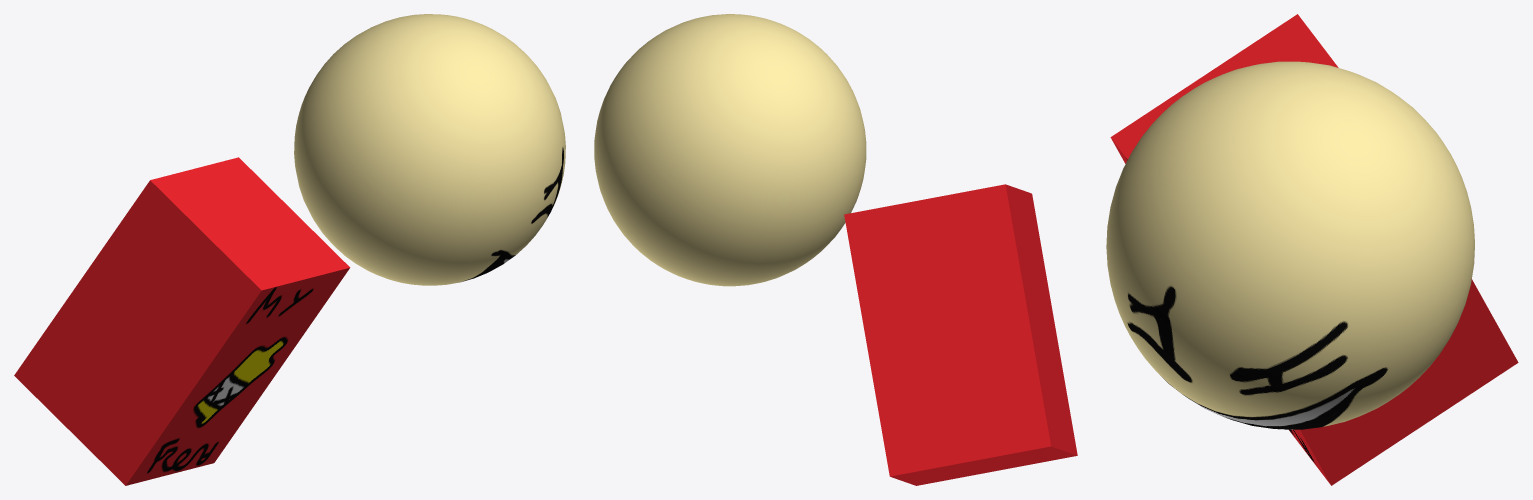
File: Red Guy v2 Crazy Face.glb
3 renders of one model, left to right at view 1: azimuth 30°, elevation 25°; view 2: azimuth 150°, elevation 25°; view 3: azimuth 270°, elevation 25°, orthographic. The views are drawn at different scales.
Visible parts, largest first — view 1: mesh_id39, mesh_id27; view 2: mesh_id27, mesh_id39; view 3: mesh_id27, mesh_id39.
Boxes of the visible parts, x1,y1,x2,y2 form: mesh_id39: (14, 157, 350, 485); mesh_id27: (294, 14, 565, 285); mesh_id27: (594, 14, 866, 286); mesh_id39: (844, 184, 1077, 485); mesh_id27: (1106, 61, 1474, 429); mesh_id39: (1110, 14, 1518, 485).
Bounding box in the file's own units: 0.4125 × 0.3233 × 0.2236.
Materials: 2 (2 with a texture image).
